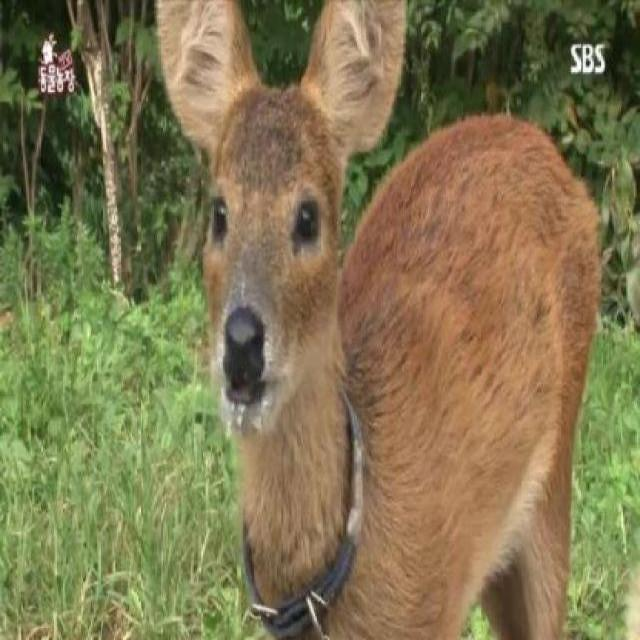deer: (149, 0, 602, 637)
